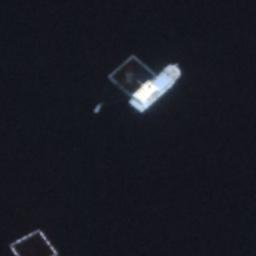square_solid: (107, 52, 160, 100), (7, 225, 60, 256)
